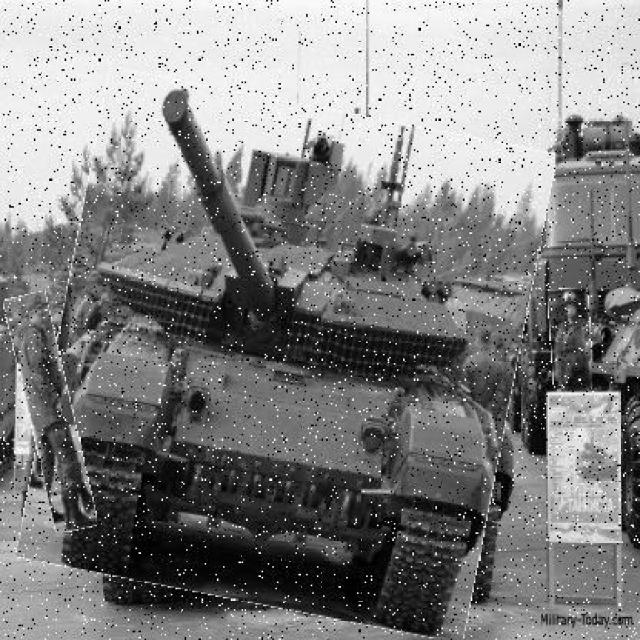Person: (18, 292, 87, 535), (551, 290, 594, 392)
Tank: (39, 87, 538, 626)
